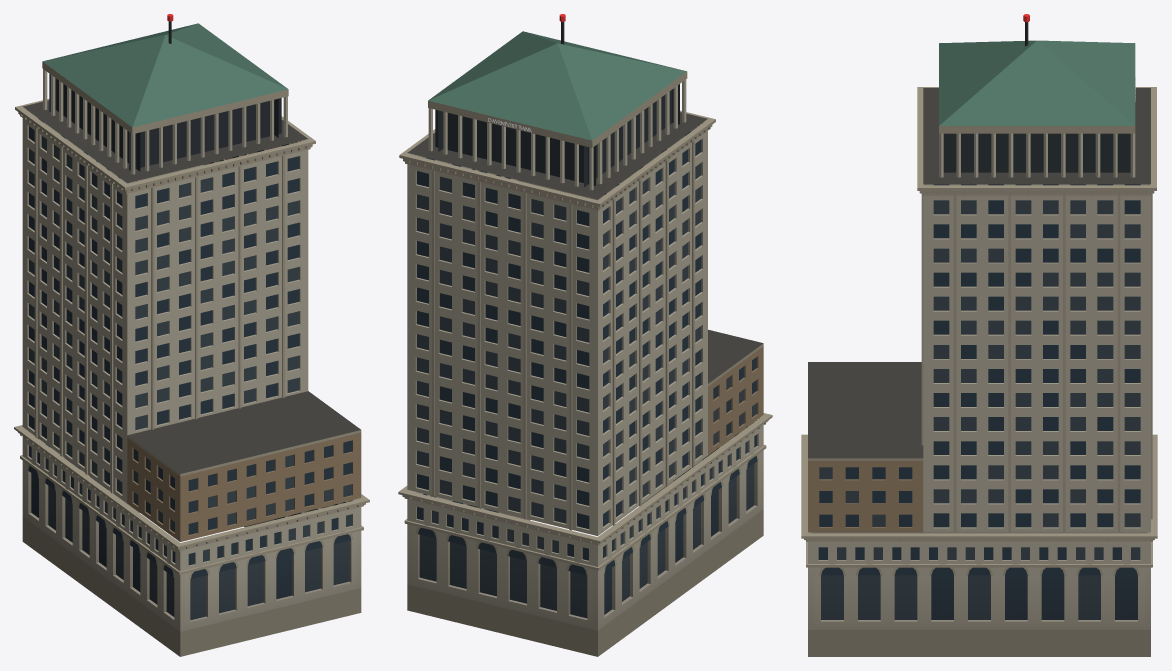
Rendered from banktower.glb.
3 views of the same model, side by side, from view 1: azimuth 30°, elevation 25°; view 2: azimuth 150°, elevation 25°; view 3: azimuth 270°, elevation 25° (orthographic). The views are drawn at different scales.
Visible parts, largest first — view 1: banktower_lod0; view 2: banktower_lod0; view 3: banktower_lod0.
Boxes of the visible parts, box(x1,y1,x2,y2) form: banktower_lod0: box(14, 14, 369, 656); banktower_lod0: box(398, 14, 772, 656); banktower_lod0: box(801, 14, 1157, 656).
Size of what is drawn, in the model's own units: 32.2 by 87.5 by 47.6.
